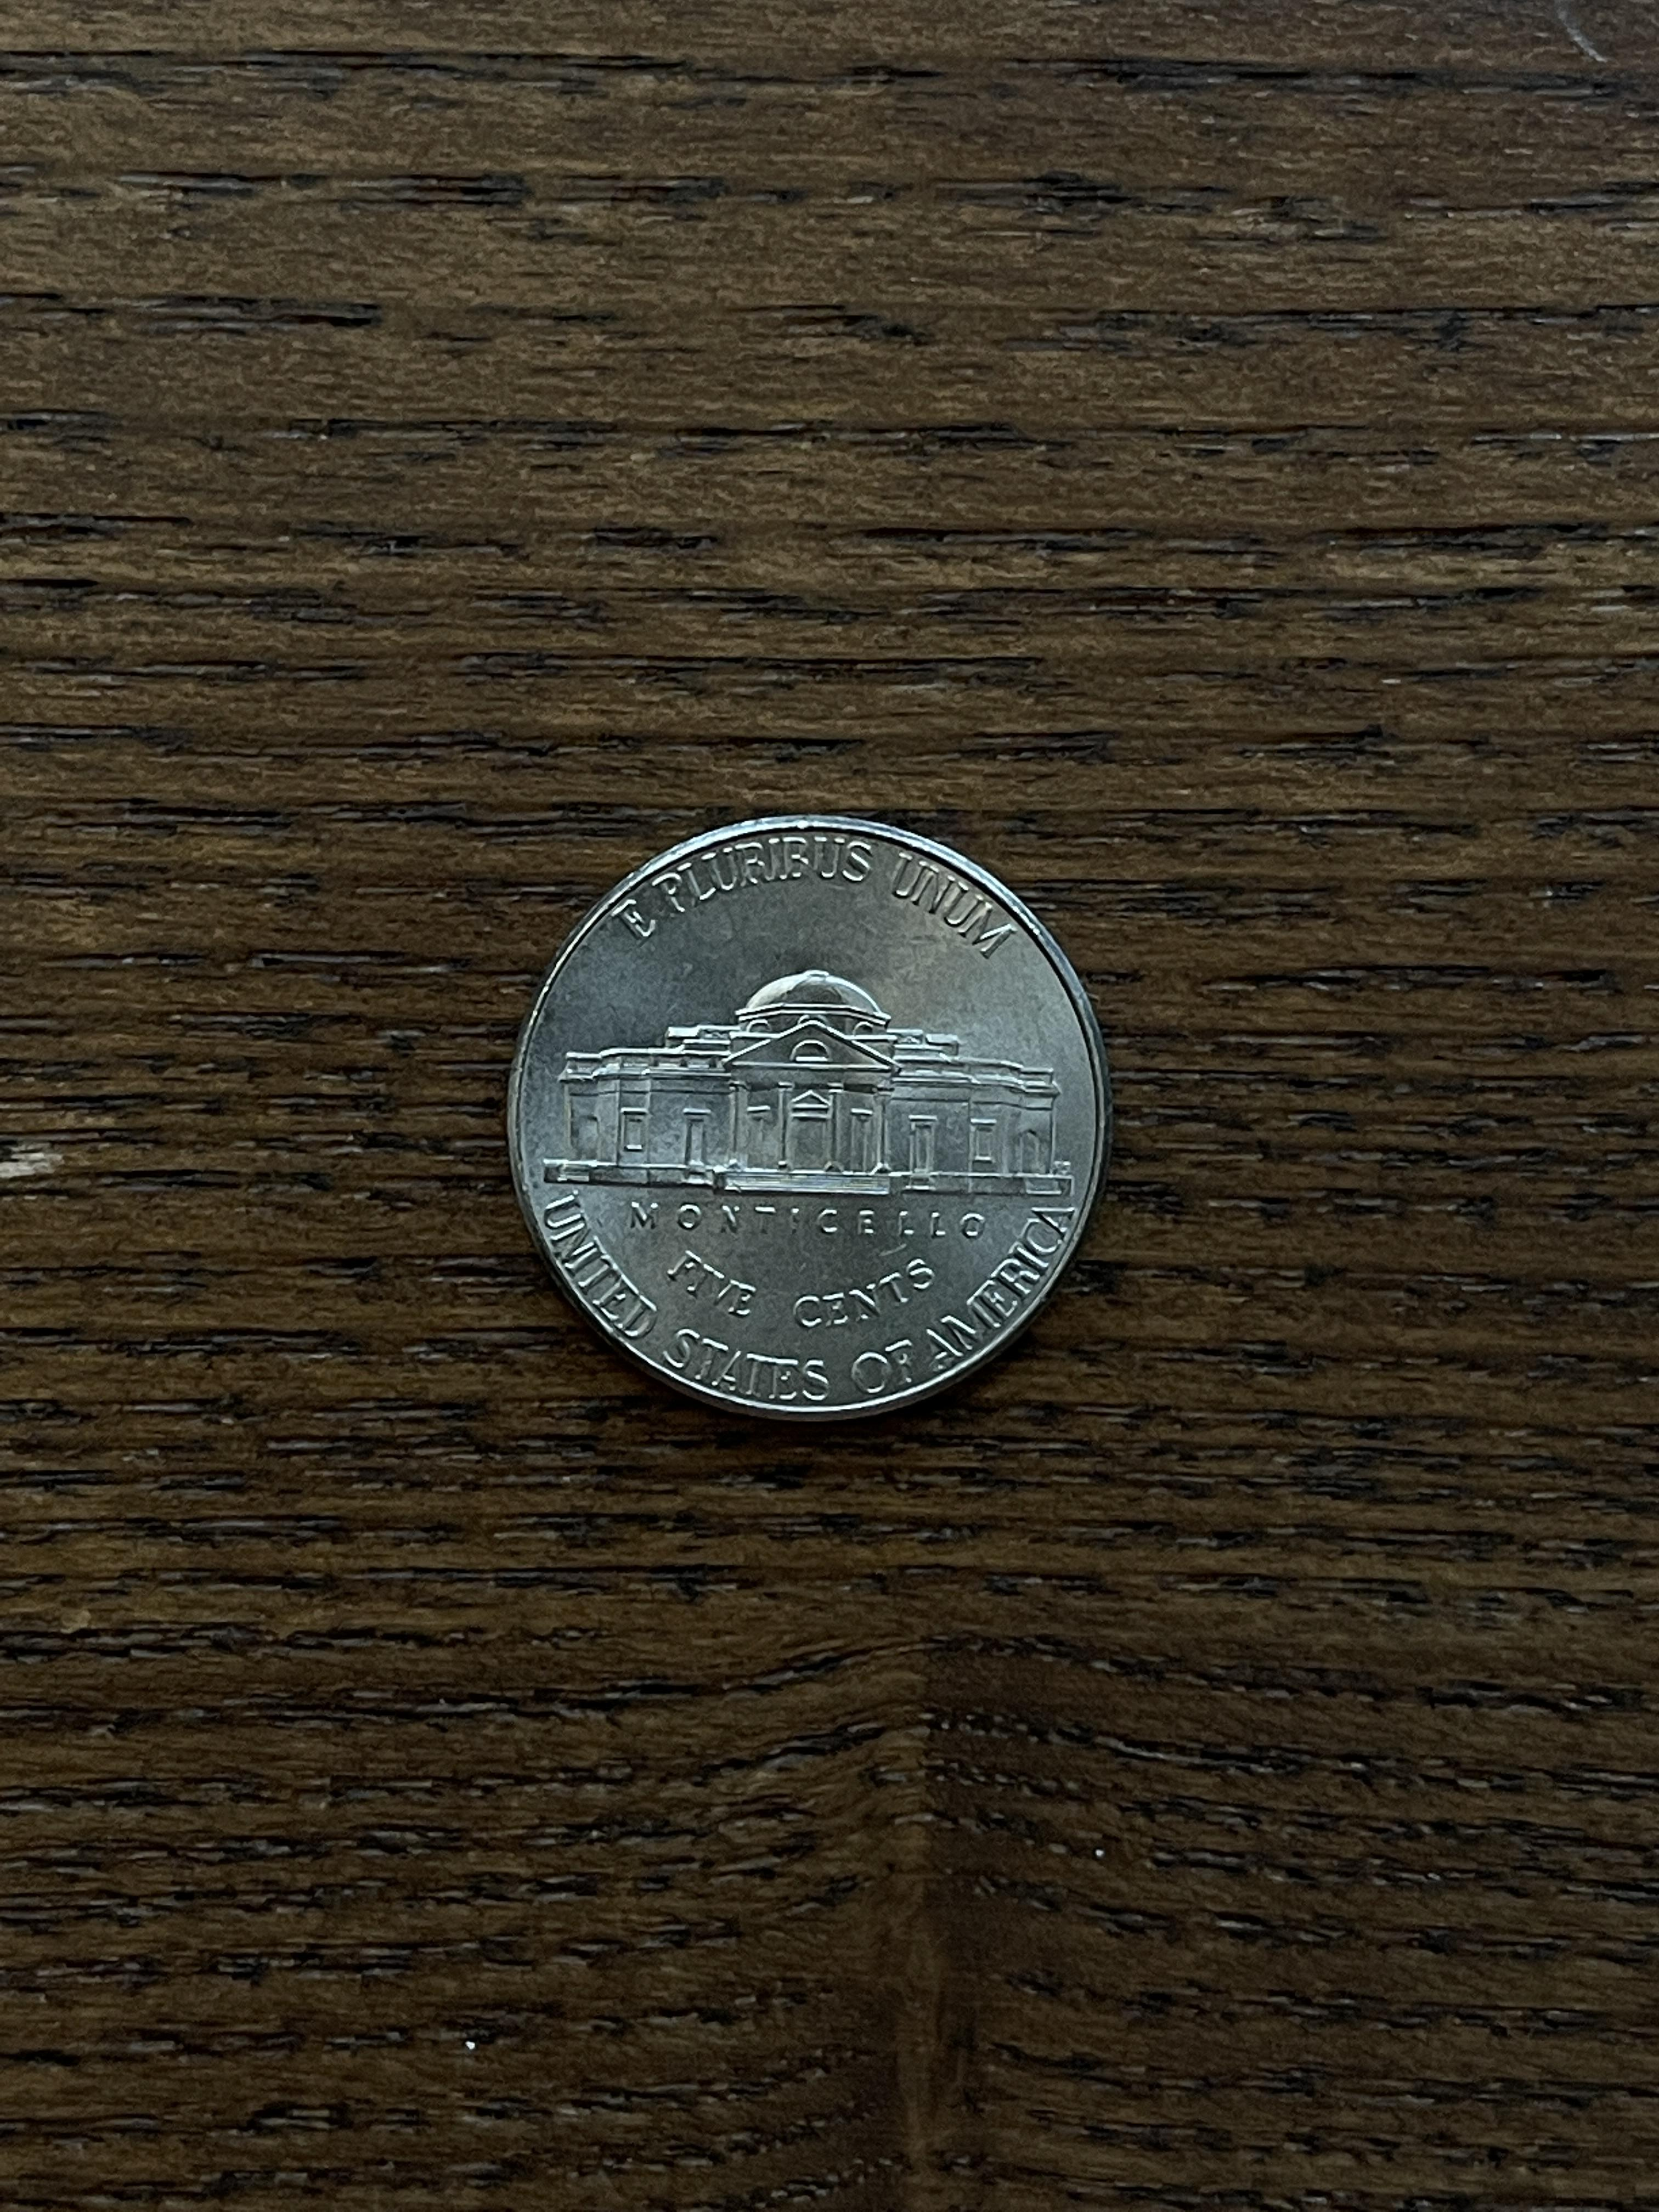Nickel: (498, 806, 1126, 1430)
